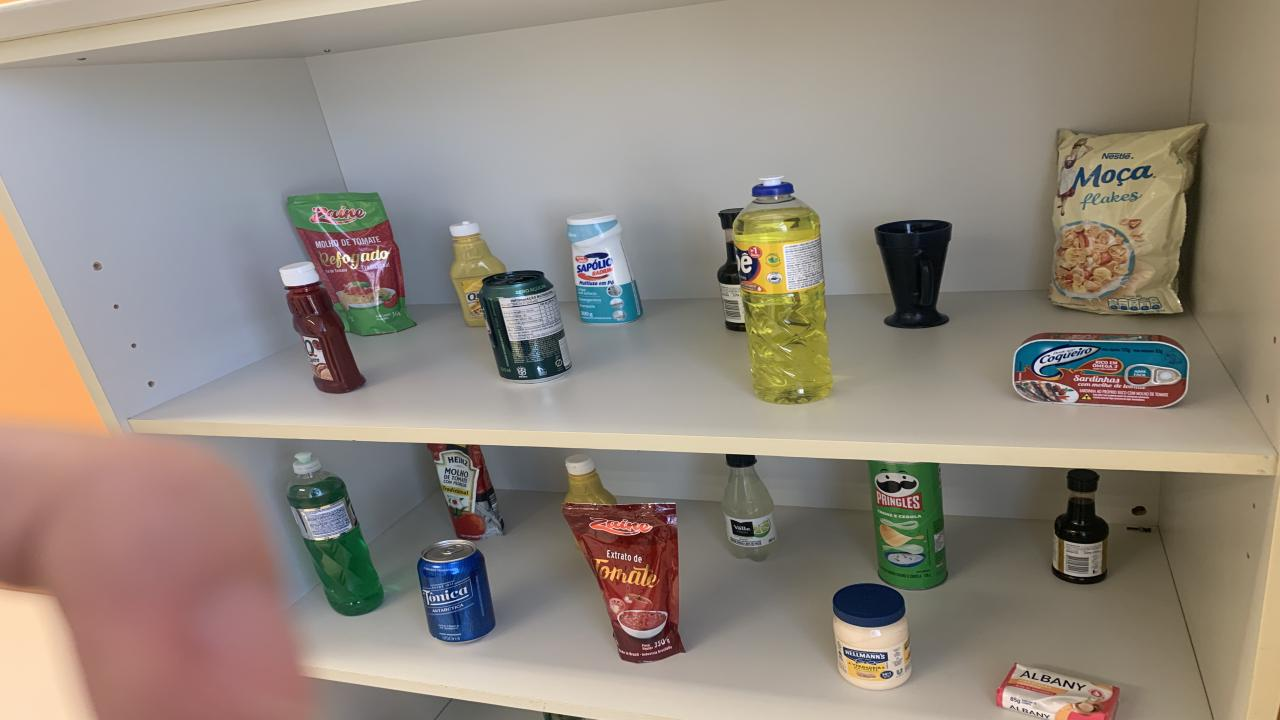Cleaner-Cleanup_Items: (568, 212, 642, 324)
Detergent-Cleanup_Items: (732, 176, 832, 405), (288, 452, 382, 615)
English_Sauce-Pantry_Items: (1052, 469, 1110, 585), (718, 208, 745, 332)
Flakes-Snacks: (1050, 124, 1205, 313)
Guarana_Can-Drinks: (480, 270, 570, 382)
Ketchup-Pantry_Items: (280, 262, 365, 394)
Mayonnaise-Pantry_Items: (832, 583, 912, 690)
Mustard-Pantry_Items: (450, 221, 505, 326), (565, 454, 618, 504)
Pringles-Snacks: (868, 461, 948, 589)
Soap-Cleanup_Items: (998, 664, 1120, 720)
Soda-Drinks: (722, 454, 778, 561)
Tomato_Sauce-Pantry_Items: (562, 502, 685, 664), (288, 193, 415, 336), (428, 444, 505, 540)
Tonic-Drinks: (418, 540, 495, 643)
Tuna_Can-Pantry_Items: (1012, 334, 1190, 409)
